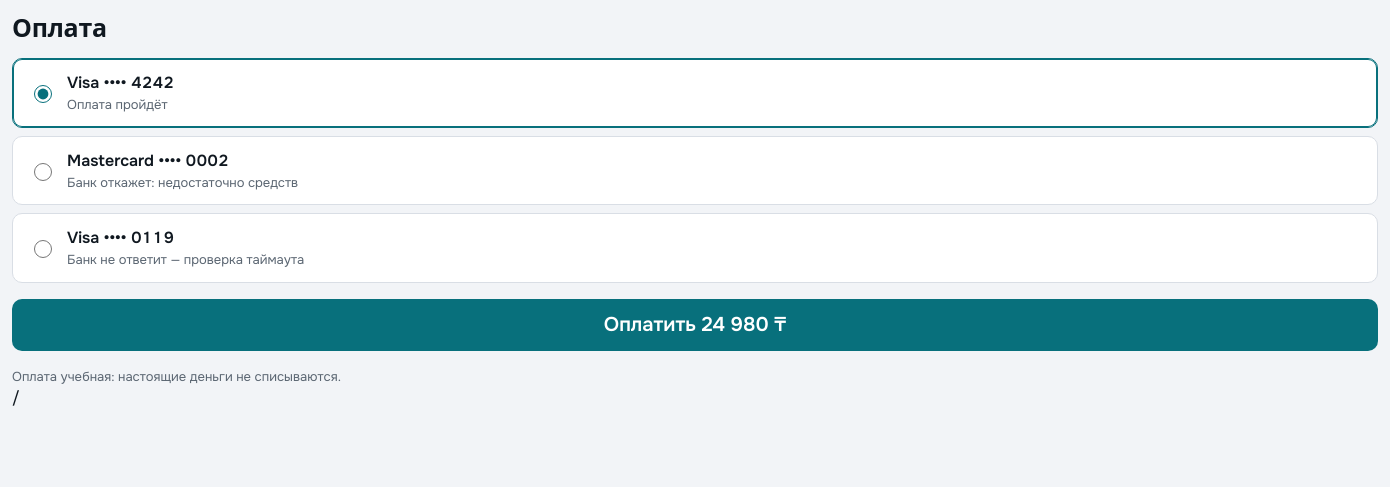
Test: отказ банка — понятно, что деньги не списаны и что делать
Click the button "Оплатить 24 980 ₸": (695, 324) [12, 298, 1378, 350]
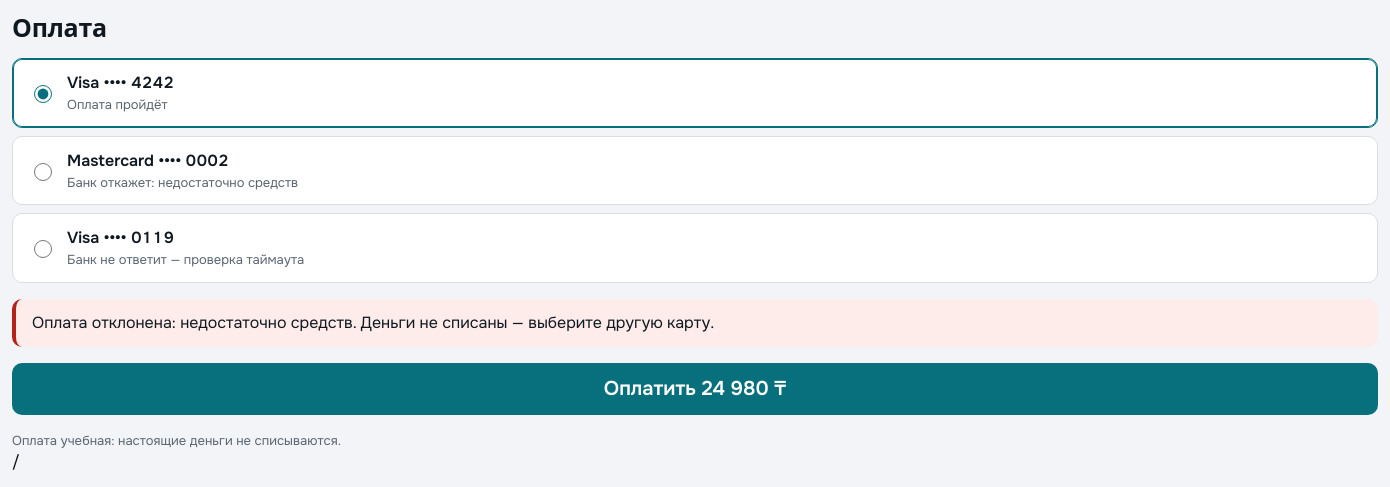
Expected: the message shows "Оплата отклонена: недостаточно средств. Деньги не списаны — выберите другую карту.", [12, 298, 1378, 346]
